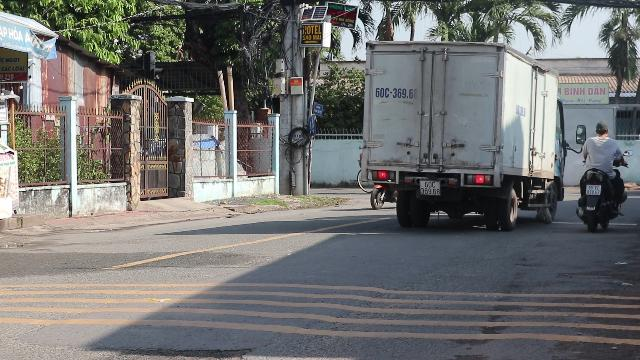licenseplate: (586, 185, 600, 195)
motorcyclist: (575, 118, 627, 229)
nohelmet: (593, 120, 609, 136)
